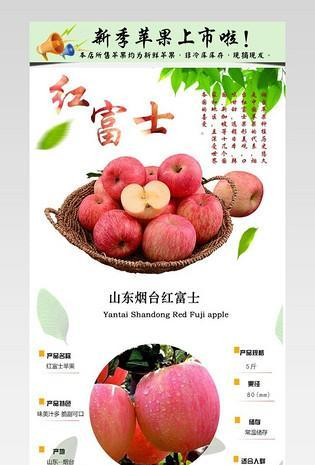apple: (133, 363, 220, 450), (91, 383, 135, 460), (91, 209, 142, 259), (211, 172, 263, 217), (176, 192, 223, 241), (143, 215, 194, 258), (156, 153, 202, 199), (102, 155, 145, 202), (121, 180, 170, 217), (76, 192, 117, 232)
